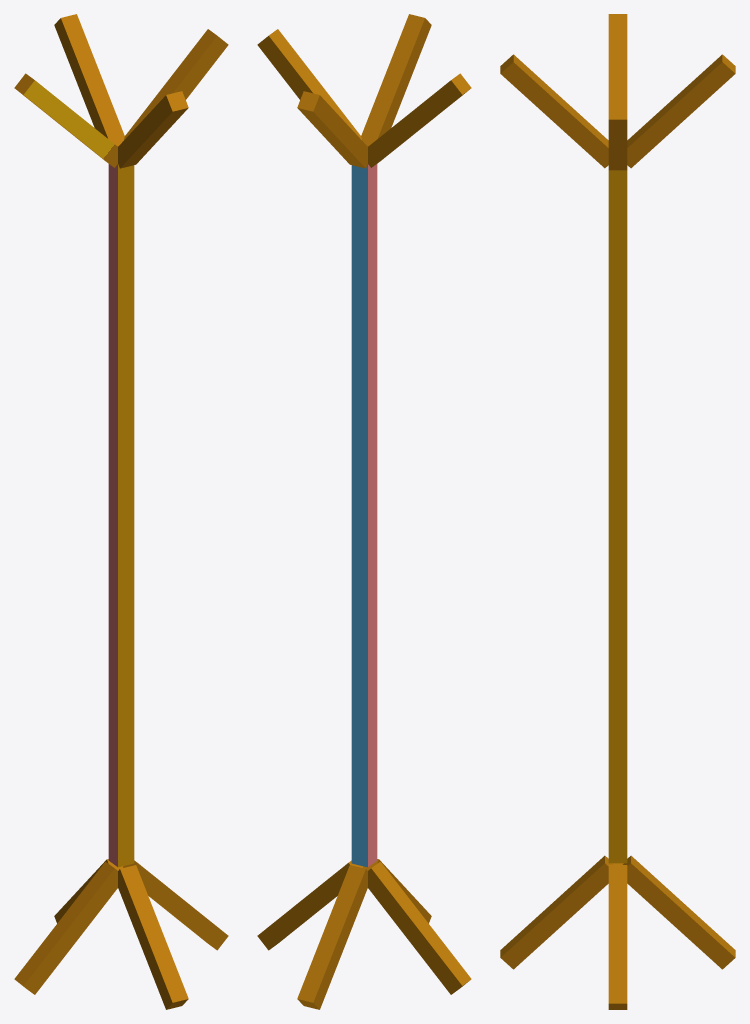
Rendered from braziere.gltf.
The picture shows the model from 3 angles, left to right: view 1: azimuth 30°, elevation 25°; view 2: azimuth 150°, elevation 25°; view 3: azimuth 270°, elevation 25°; orthographic projection.
Visible parts, largest first — view 1: mesh, group, group2; view 2: mesh, group, group2; view 3: mesh, group, group2.
Boxes of the visible parts, <box> form: mesh: <box>108,164,134,867</box>; group: <box>14,14,228,168</box>; group2: <box>14,859,228,1009</box>; mesh: <box>351,164,377,867</box>; group: <box>257,14,471,168</box>; group2: <box>257,859,471,1009</box>; mesh: <box>608,170,627,863</box>; group: <box>500,14,735,170</box>; group2: <box>500,855,735,1009</box>.
Bounding box in the file's own units: 0.7955 × 3.39 × 0.7955.
Materials: 2 (2 with a texture image).
